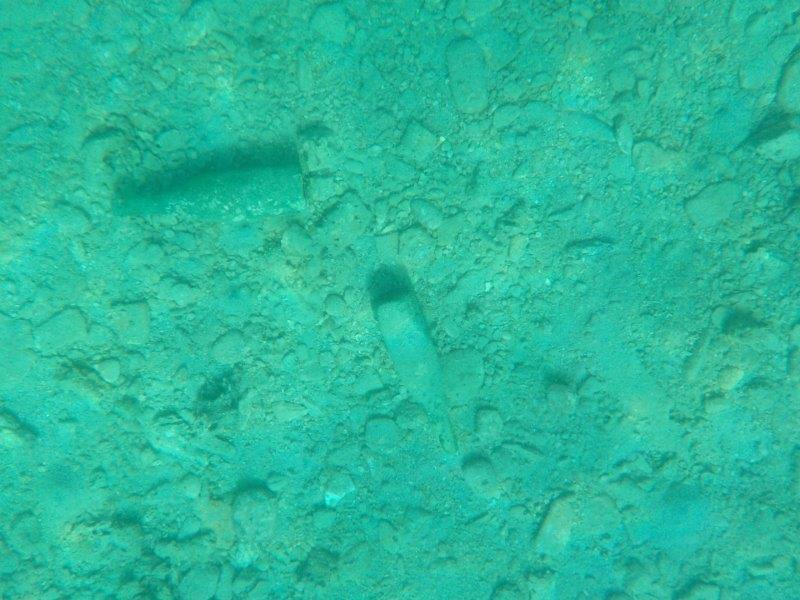bottle: (373, 290, 465, 457), (110, 164, 315, 229)
